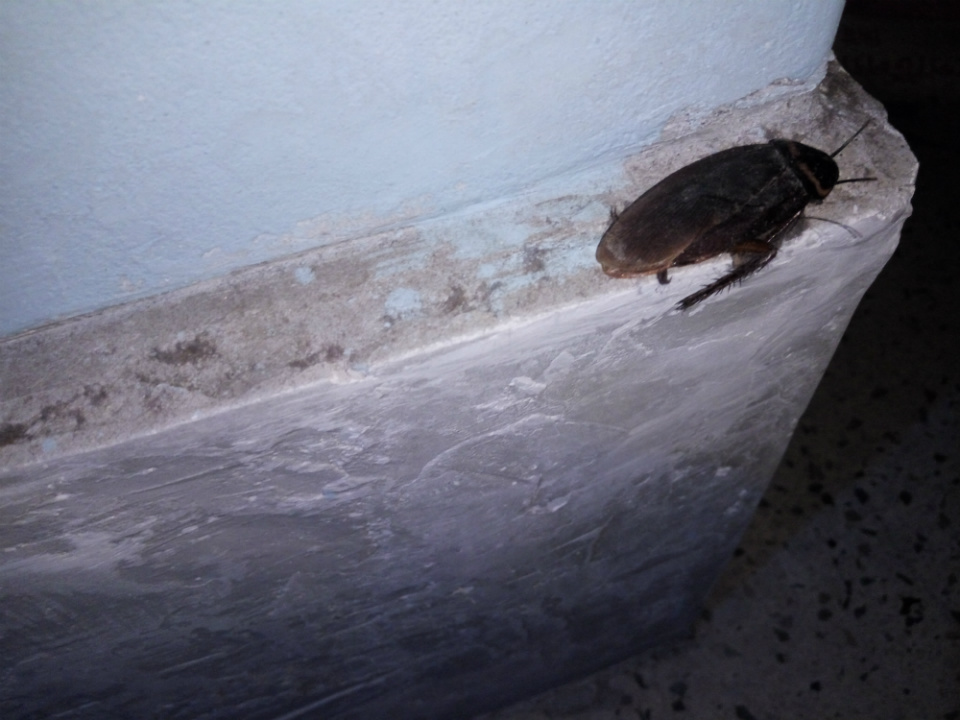cockroach: (470, 109, 928, 341)
